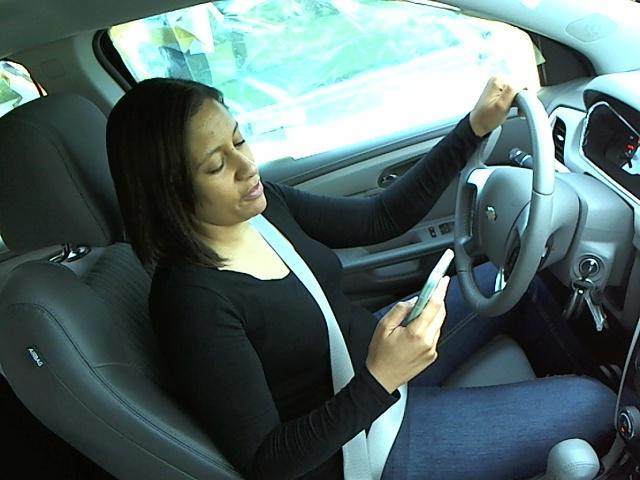PhoneUse: (400, 242, 454, 334)
